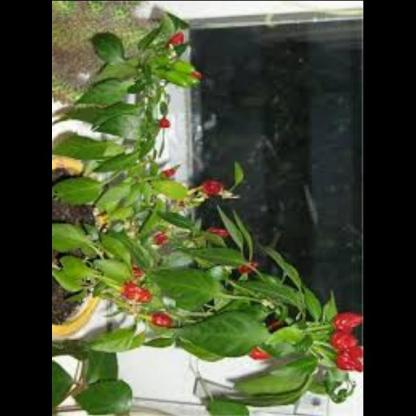hot pepper: (324, 306, 364, 381), (112, 253, 153, 308), (241, 337, 278, 365), (142, 304, 175, 331), (162, 158, 190, 185), (195, 177, 224, 202), (168, 28, 192, 57), (152, 226, 178, 252), (239, 258, 265, 282), (201, 224, 234, 242), (155, 115, 178, 134)
